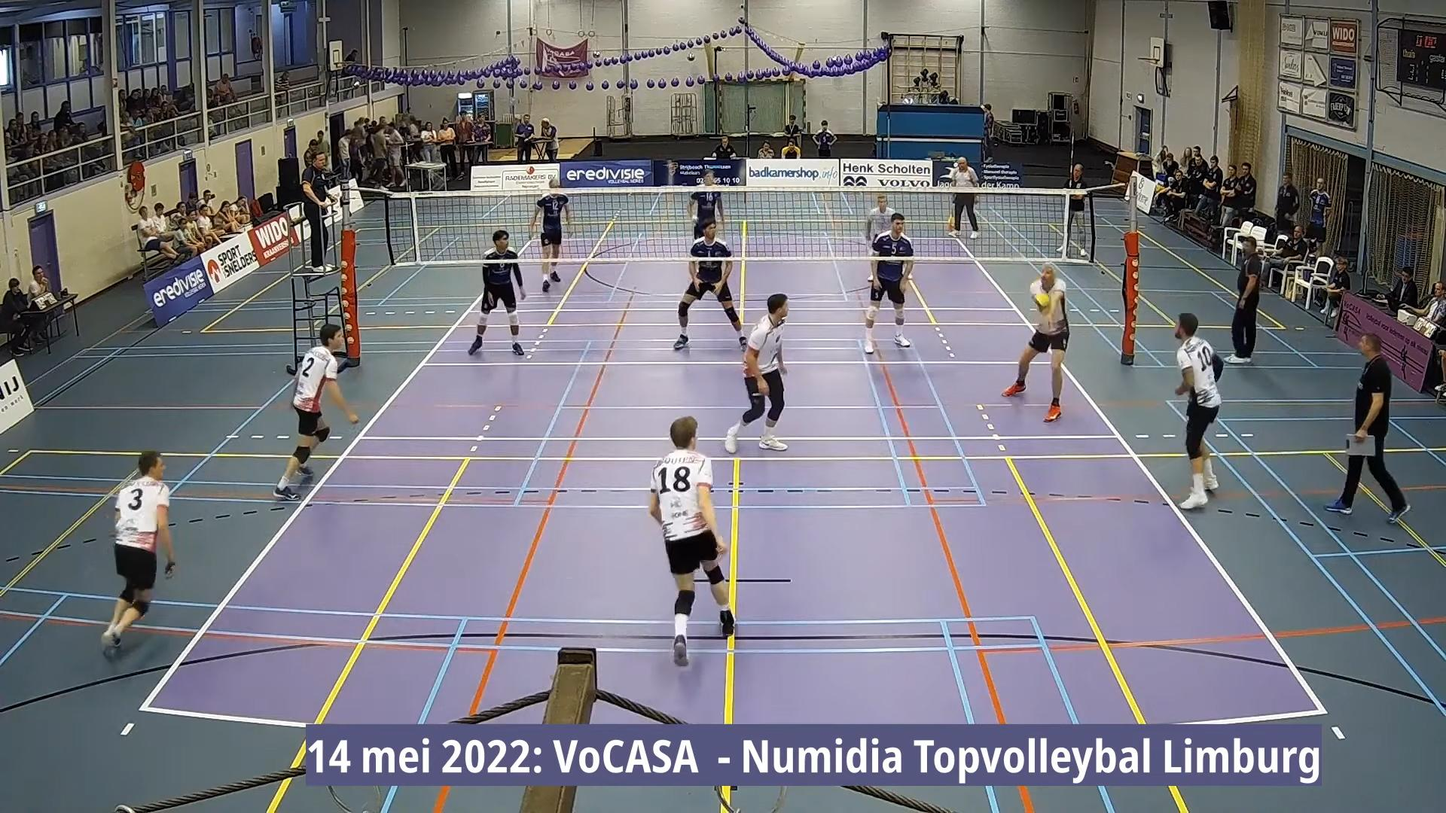Player: (648, 416, 734, 665), (273, 324, 358, 501), (102, 451, 175, 649), (725, 294, 788, 453), (1175, 312, 1223, 509), (673, 221, 746, 349), (468, 230, 525, 355), (865, 212, 914, 354), (529, 178, 571, 292), (690, 170, 723, 239), (865, 194, 895, 245)
Set: (1005, 262, 1075, 423)
ball: (1030, 288, 1050, 307)
